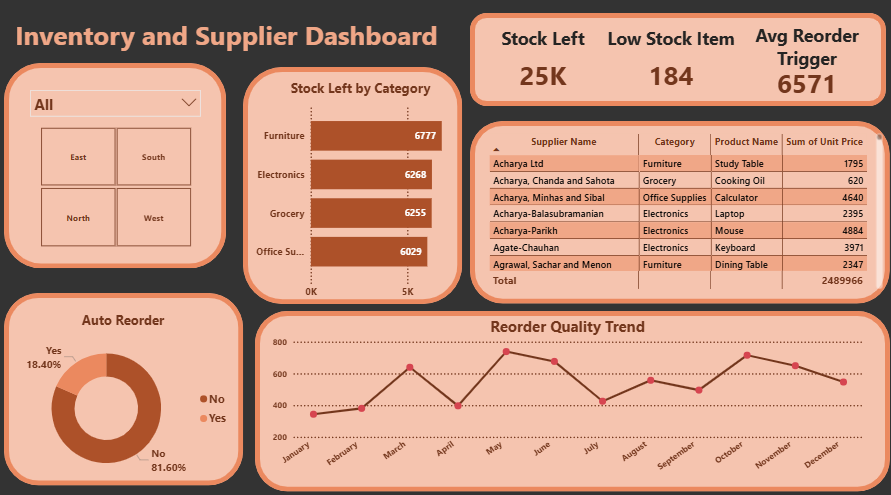

The page's visual inventory and layout, read from the dashboard file:
{"tool":"powerbi","page":{"name":"Page 2","canvas":[1280,720],"ordinal":1},"visuals":[{"type":"textbox","box":[0,20,652.9,70],"z":0},{"type":"shape","box":[8.5,419.5,341.6,275],"z":1000},{"type":"shape","box":[674.6,174.3,599.5,260.8],"z":2000},{"type":"shape","box":[674.3,20,594.3,132.9],"z":3000},{"type":"shape","box":[8.5,92.1,317.5,293.4],"z":4000},{"type":"slicer","fields":{"Values":["Superstore_Management_System.Category"]},"box":[35.4,120.5,263.6,238.1],"z":5000},{"type":"slicer","fields":{"Values":["Superstore_Management_System.Region"]},"box":[35.4,177.2,263.6,182.8],"z":6000},{"type":"card","title":"Stock Left","fields":{"Values":["Sum(Superstore_Management_System.Stock Left)"]},"box":[662.9,38.6,231.4,105.7],"z":7000},{"type":"card","title":"Low Stock Item","fields":{"Values":["CountNonNull(Superstore_Management_System.Stock Left)"]},"box":[850,38.6,222.9,105.7],"z":8000},{"type":"card","title":"Avg Reorder Trigger","fields":{"Values":["Sum(Superstore_Management_System.Reorder Quantity)"]},"box":[1042.9,34.3,225.7,105.7],"z":9000},{"type":"shape","box":[367.1,445,907.1,258],"z":10000},{"type":"donutChart","title":"Auto Reorder","fields":{"Y":["CountNonNull(Superstore_Management_System.Auto Reorder)"],"Category":["Superstore_Management_System.Auto Reorder"]},"box":[17,445,323.1,258],"z":11000},{"type":"lineChart","title":"Reorder Quality Trend","fields":{"Category":["Superstore_Management_System.Ship Date.Variation.Date Hierarchy.Month"],"Y":["Sum(Superstore_Management_System.Reorder Quantity)"]},"box":[386.9,453.5,853.2,240.9],"z":12000},{"type":"shape","box":[350.1,97.8,313.2,338.7],"z":13000},{"type":"barChart","title":"Stock Left by Category","fields":{"Category":["Superstore_Management_System.Category"],"Y":["Sum(Superstore_Management_System.Stock Left)"]},"box":[350.1,114.8,335.9,321.7],"z":14000},{"type":"tableEx","fields":{"Values":["Superstore_Management_System.Supplier Name","Superstore_Management_System.Category","Superstore_Management_System.Product Name","Sum(Superstore_Management_System.Unit Price)"]},"box":[695.9,187.1,572.6,232.4],"z":15000}]}

Visuals, with their boxes in screenshot pixels (x1, y1, x2, y2), scaled from the page's 1280x720 canvas onto the 891x495 screenshot:
textbox: (0, 14, 454, 62)
shape: (6, 288, 244, 477)
shape: (470, 120, 887, 299)
shape: (469, 14, 883, 105)
shape: (6, 63, 227, 265)
slicer - Superstore_Management_System.Category: (25, 83, 208, 247)
slicer - Superstore_Management_System.Region: (25, 122, 208, 248)
"Stock Left" card: (461, 27, 623, 99)
"Low Stock Item" card: (592, 27, 747, 99)
"Avg Reorder Trigger" card: (726, 24, 883, 96)
shape: (256, 306, 887, 483)
"Auto Reorder" donutChart: (12, 306, 237, 483)
"Reorder Quality Trend" lineChart: (269, 312, 863, 477)
shape: (244, 67, 462, 300)
"Stock Left by Category" barChart: (244, 79, 478, 300)
tableEx - Superstore_Management_System.Supplier Name x Superstore_Management_System.Category: (484, 129, 883, 288)
